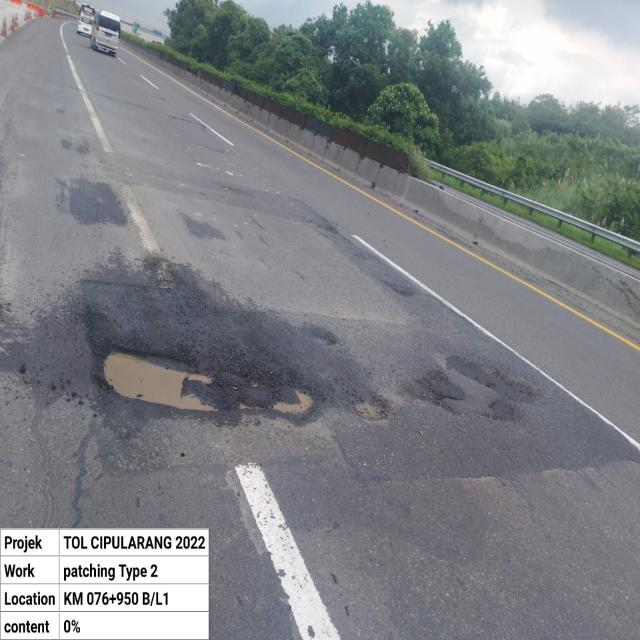Buraco: (73, 302, 323, 442), (396, 348, 558, 426), (347, 393, 393, 423), (382, 279, 424, 300), (308, 327, 340, 347)
